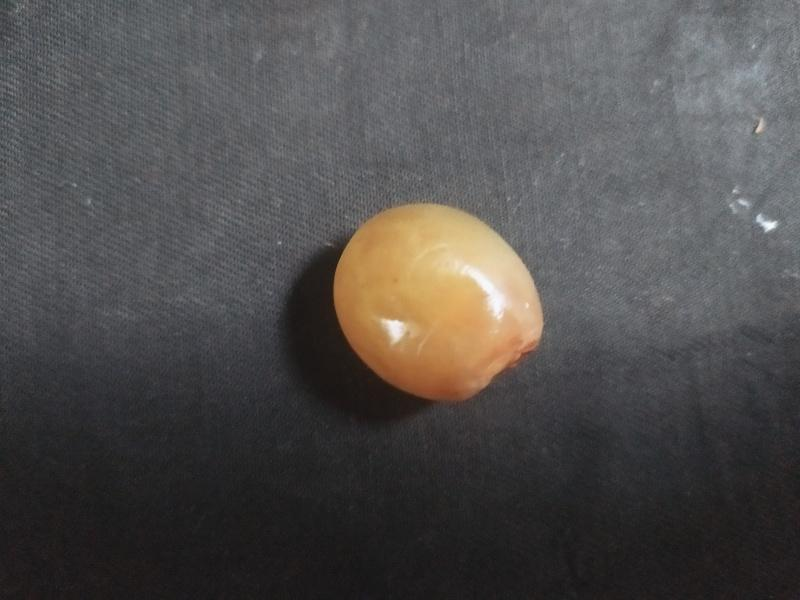Grape Rotten: (333, 202, 545, 405)
